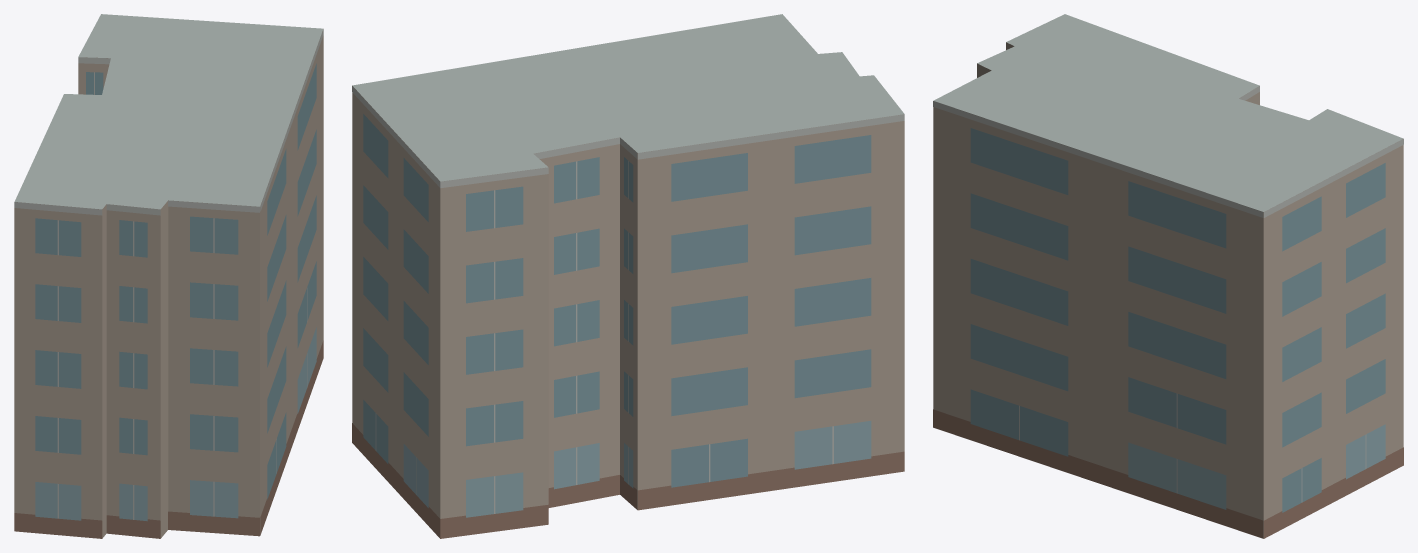
File: survey-upis-32893577.glb
3 views of the same model, side by side, from view 1: azimuth 30°, elevation 25°; view 2: azimuth 150°, elevation 25°; view 3: azimuth 270°, elevation 25° (orthographic). The views are drawn at different scales.
Parts seen in each view (by area): view 1: survey-upis-32893577.tmp; view 2: survey-upis-32893577.tmp; view 3: survey-upis-32893577.tmp.
Part boxes in pixels (left/top/right/bottom): survey-upis-32893577.tmp: left=14, top=14, right=323, bottom=538; survey-upis-32893577.tmp: left=352, top=14, right=904, bottom=538; survey-upis-32893577.tmp: left=933, top=14, right=1403, bottom=538.
Size of the model in its own units: 17.04 by 13.1 by 17.1.
